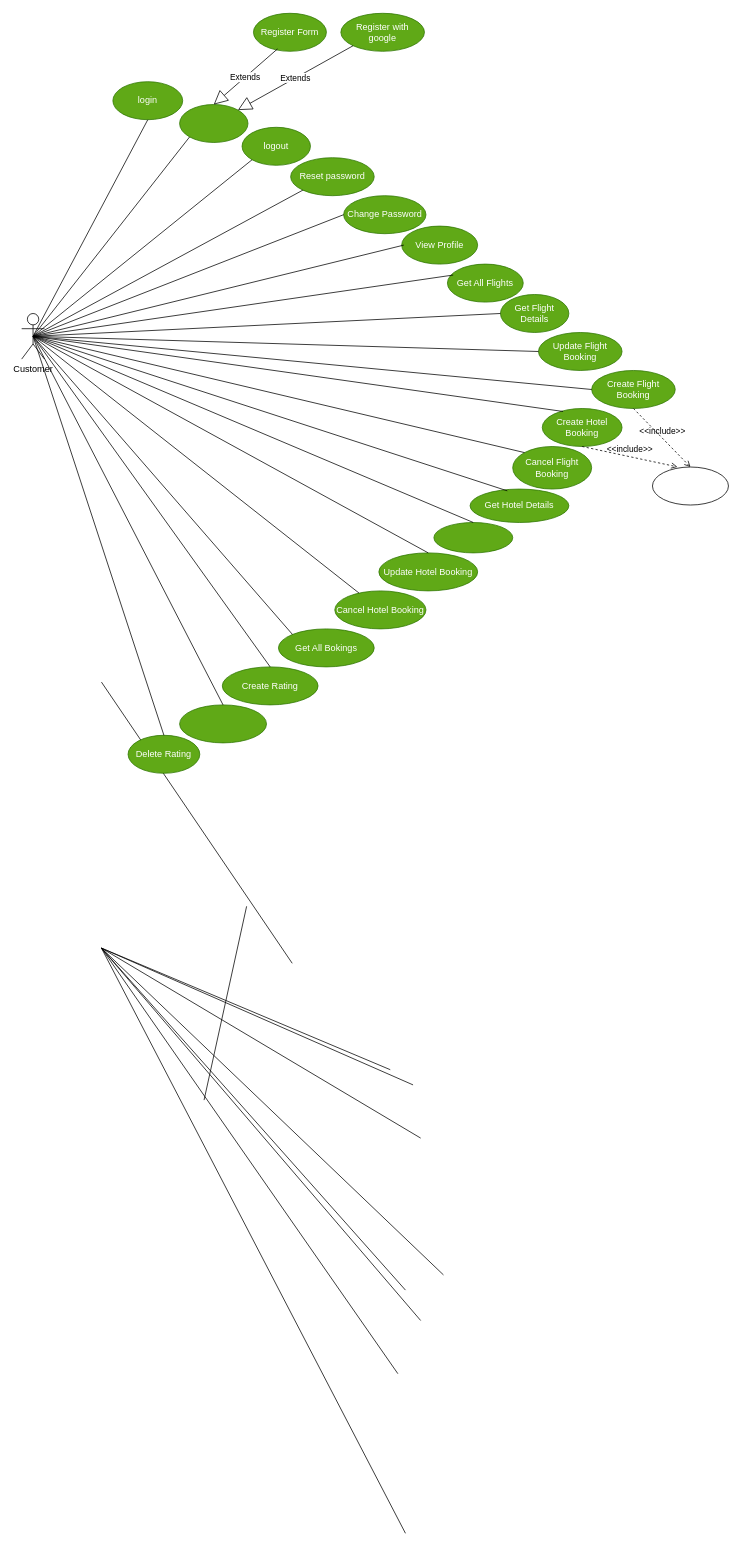
The diagram is 742 pixels wide and 1547 high, and some of its shapes have lost their labels. Each missing label, with the centre of its shape:
Make Payment: the point at 690,485
Register: the point at 213,123
Update Booking: the point at 473,537
Update Rating: the point at 223,723
